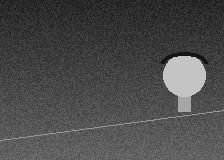no_helmet: (163, 52, 205, 101)
